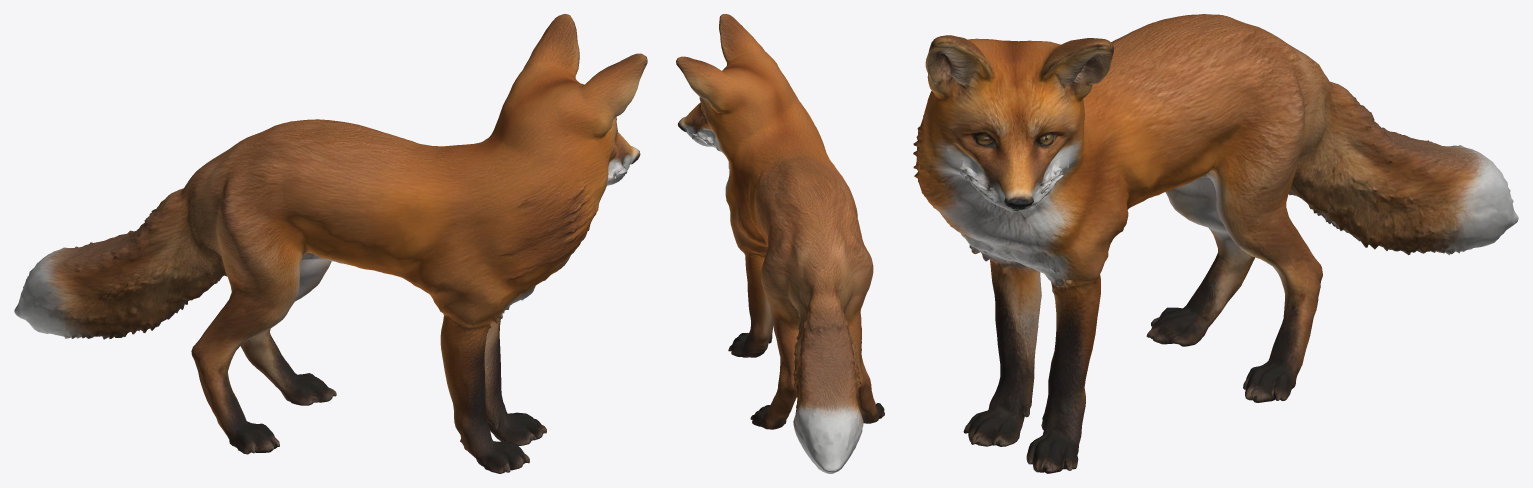
File: day5.glb
3 renders of one model, left to right at view 1: azimuth 30°, elevation 25°; view 2: azimuth 150°, elevation 25°; view 3: azimuth 270°, elevation 25°, orthographic. The views are drawn at different scales.
Visible parts, largest first — view 1: tripo_node_2ec6585f-1b03-42b3-b25f-ce1865846c20; view 2: tripo_node_2ec6585f-1b03-42b3-b25f-ce1865846c20; view 3: tripo_node_2ec6585f-1b03-42b3-b25f-ce1865846c20.
Part boxes in pixels (<box>): tripo_node_2ec6585f-1b03-42b3-b25f-ce1865846c20: <box>14,14,647,473</box>; tripo_node_2ec6585f-1b03-42b3-b25f-ce1865846c20: <box>676,14,884,473</box>; tripo_node_2ec6585f-1b03-42b3-b25f-ce1865846c20: <box>913,14,1518,473</box>.
Bounding box in the file's own units: 0.9484 × 0.8558 × 1.
1 material, 1 textured.
